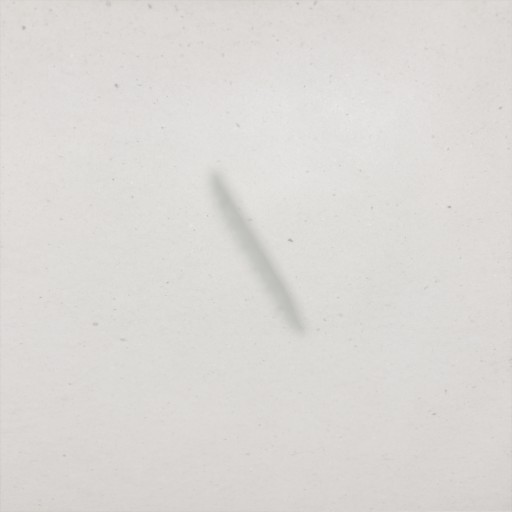lego: (206, 167, 310, 338)
